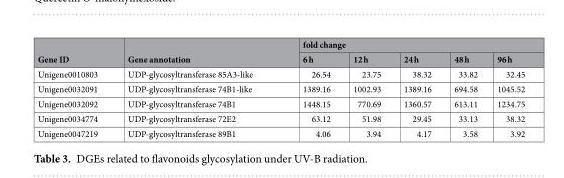table: (36, 37, 524, 139)
table column: (112, 37, 277, 139), (36, 37, 112, 139), (277, 37, 341, 139), (391, 37, 442, 139), (341, 37, 391, 139), (442, 37, 486, 139), (486, 37, 524, 139)
table column header: (36, 37, 524, 66)
table row: (36, 51, 524, 66), (36, 66, 524, 81), (36, 95, 524, 110), (36, 110, 524, 125), (36, 37, 524, 51), (36, 81, 524, 95), (36, 125, 524, 139)
table spanning cell: (112, 37, 277, 66), (277, 37, 524, 51), (36, 37, 112, 66)
